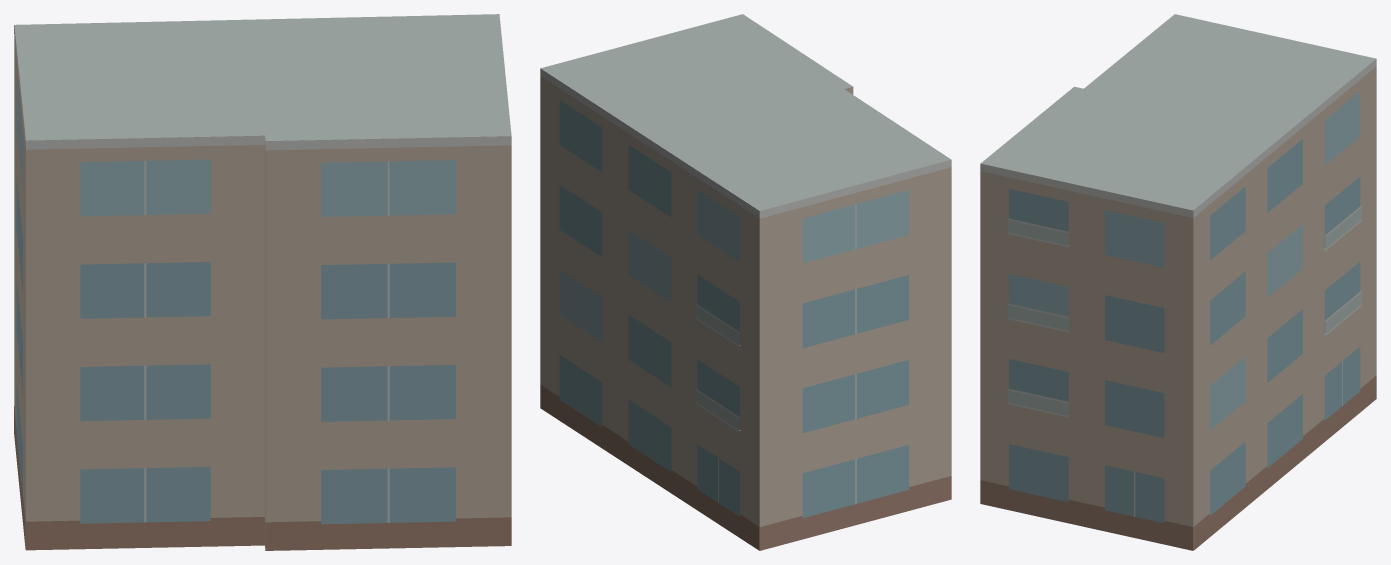
File: survey-upis-32538920.glb
The picture shows the model from 3 angles, left to right: view 1: azimuth 30°, elevation 25°; view 2: azimuth 150°, elevation 25°; view 3: azimuth 270°, elevation 25°; orthographic projection. The views are drawn at different scales.
Parts seen in each view (by area): view 1: survey-upis-32538920.tmp; view 2: survey-upis-32538920.tmp; view 3: survey-upis-32538920.tmp.
Part boxes in pixels (left/top/right/bottom): survey-upis-32538920.tmp: left=14, top=14, right=511, bottom=550; survey-upis-32538920.tmp: left=540, top=14, right=951, bottom=550; survey-upis-32538920.tmp: left=980, top=14, right=1376, bottom=550.
Size of the model in its own units: 13.63 by 11 by 11.61.
